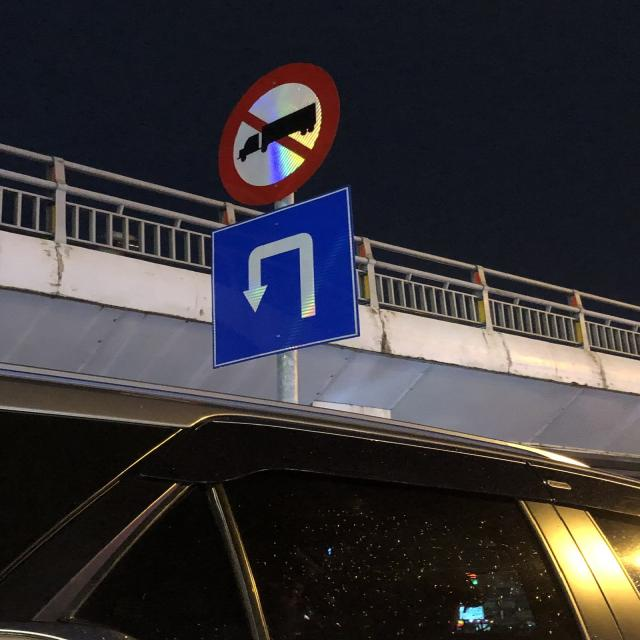Bien bao cam xe so-mi ro-mooc: (196, 52, 352, 212)
